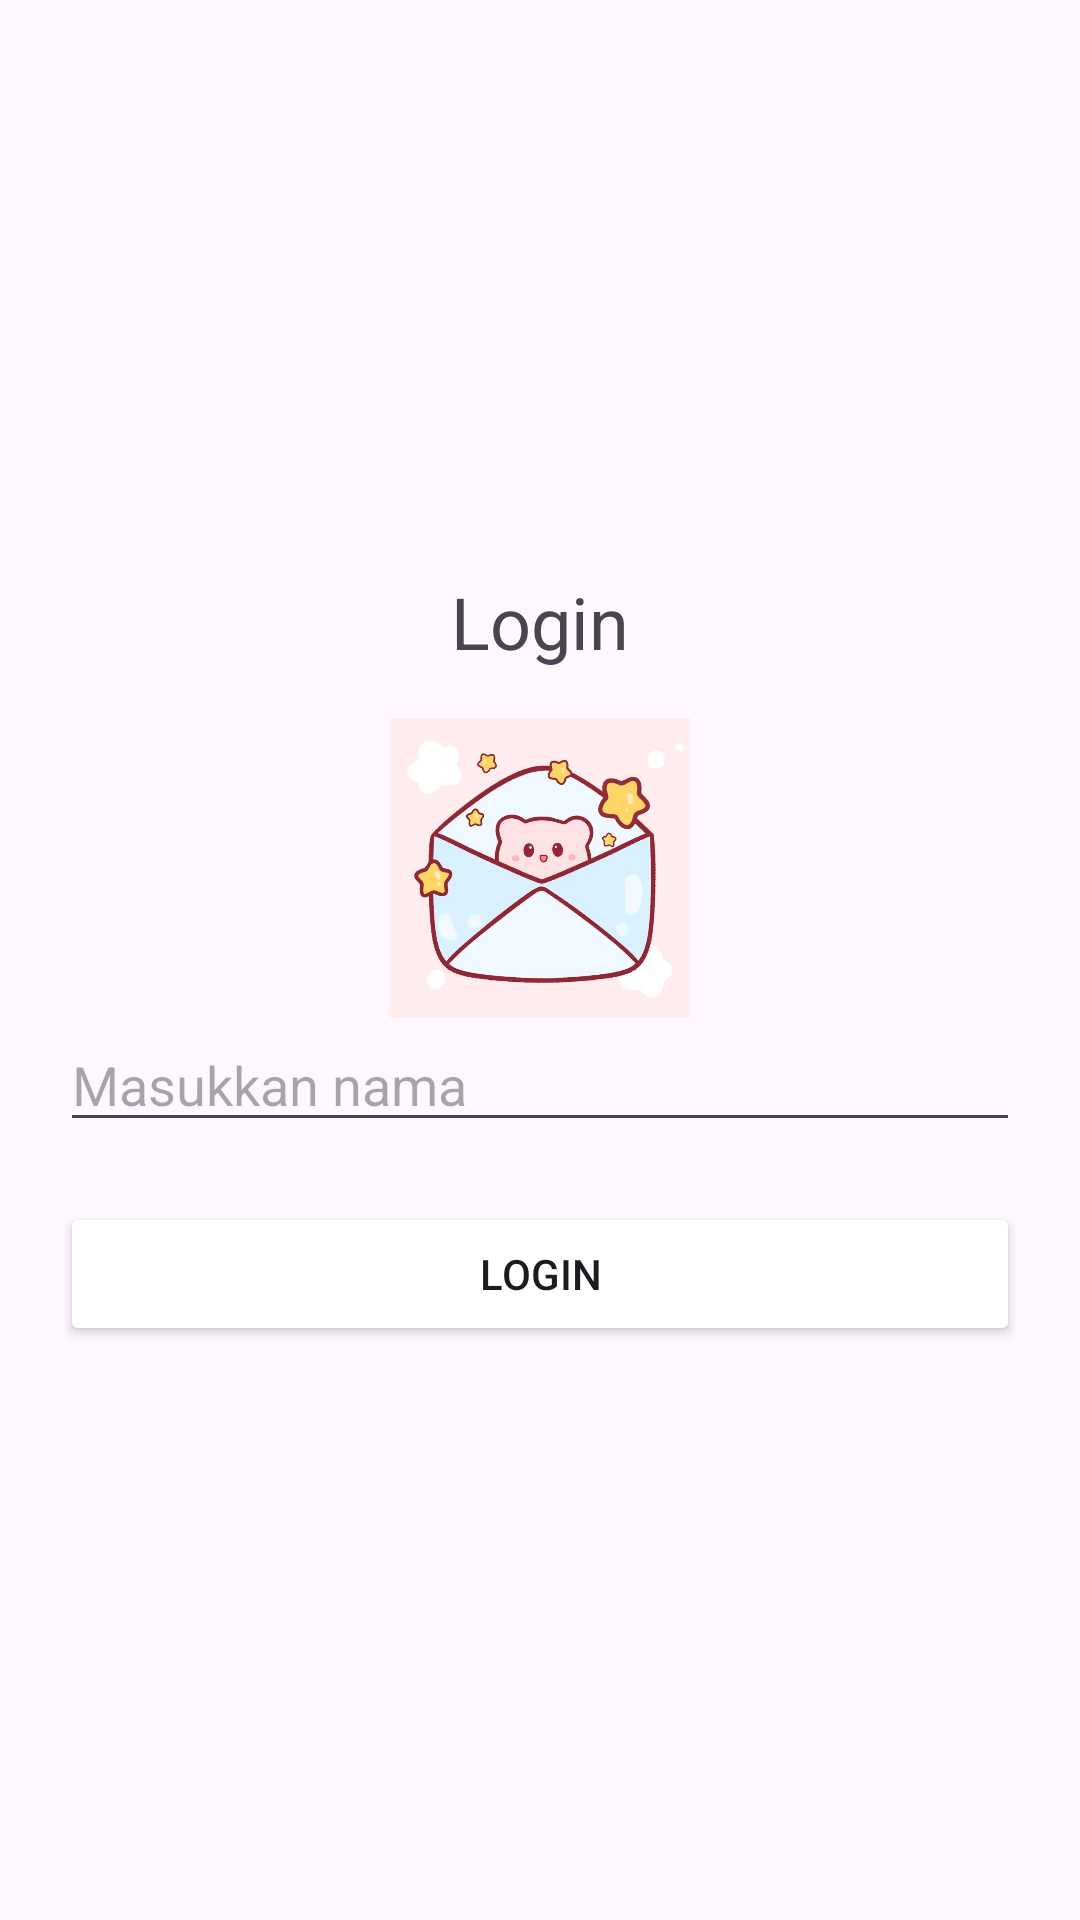

Where to tap for icons on this 1080px×1920px app screen, as point (x, y):
ikon: point (540, 868)
